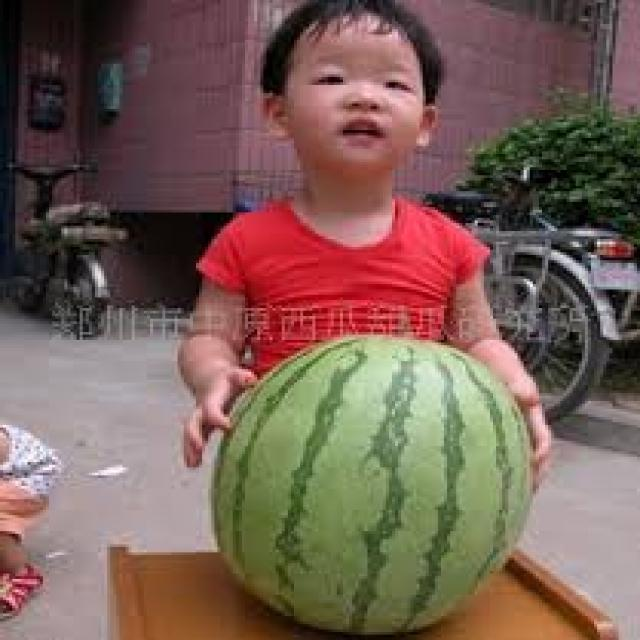watermelon: (205, 334, 535, 640)
